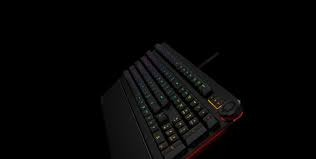keyboard: (118, 39, 235, 157)
